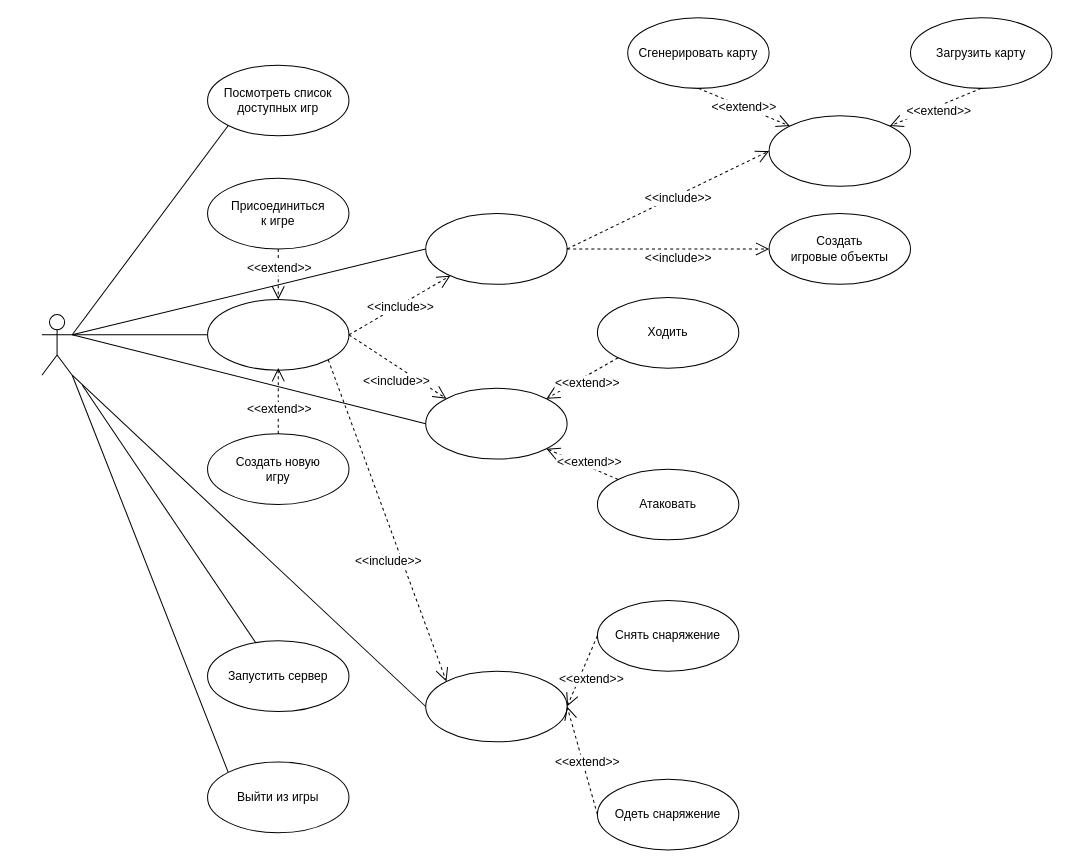
The diagram is 1070 pixels wide and 868 high, and some of its shapes have lost their labels. The centre of each missing label's shape, as x and y in pixels:
"Изменить снаряжение" belongs at pixel 496 706.
"Начать игру" belongs at pixel 278 334.
"Пользователь" belongs at pixel 56 344.
"Создать карту" belongs at pixel 839 150.
"Создать мир" belongs at pixel 496 248.
"Управлять персонажем" belongs at pixel 496 423.
